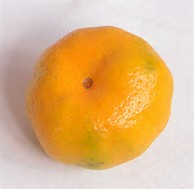orange: (29, 22, 175, 170)
